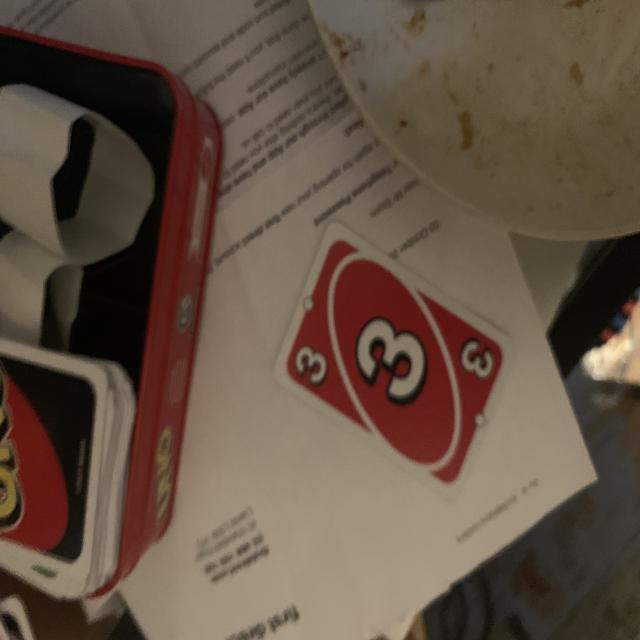lred-3: (293, 336, 337, 392)
